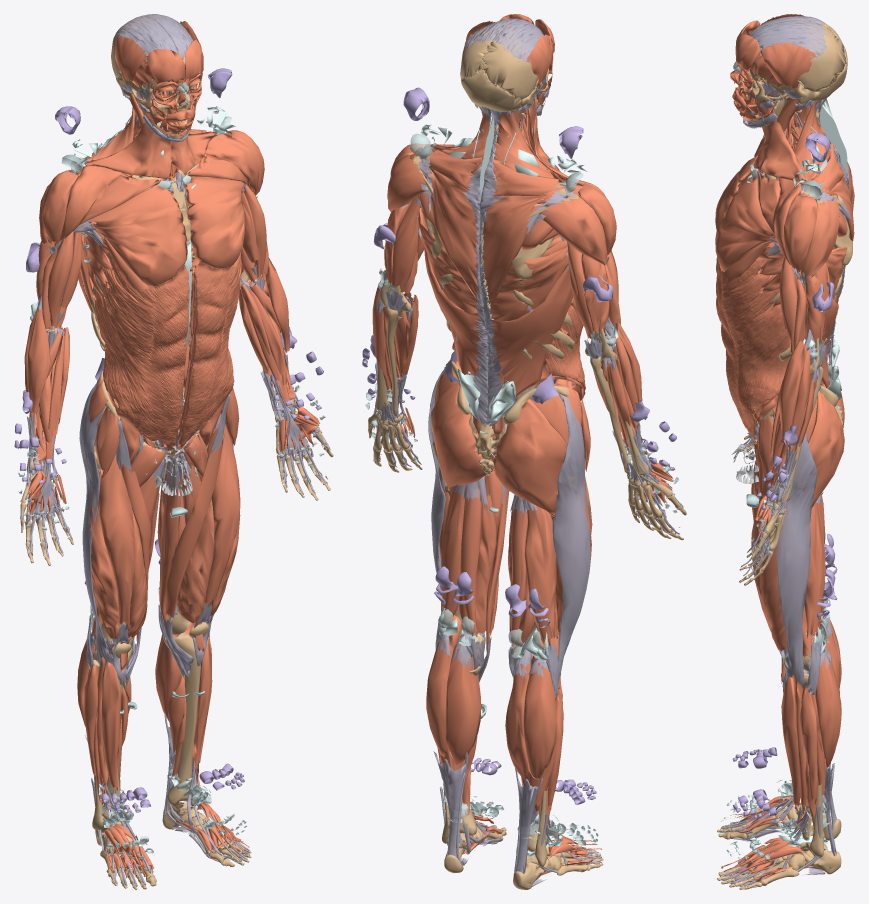
Rendered from myology.glb.
The picture shows the model from 3 angles, left to right: view 1: azimuth 30°, elevation 25°; view 2: azimuth 150°, elevation 25°; view 3: azimuth 270°, elevation 25°; orthographic projection.
Visible parts, largest first — view 1: Object_100, Object_240, Object_29, Object_24, Object_9, Object_70, Object_7; view 2: Object_100, Object_240, Object_29, Object_24, Object_70, Object_9; view 3: Object_100, Object_240, Object_29, Object_24, Object_70, Object_9, Object_7.
Part boxes in pixels (box(x1,y1,x2,y2)): Object_100: box(24, 21, 327, 877); Object_240: box(21, 14, 330, 887); Object_29: box(20, 15, 333, 889); Object_24: box(14, 68, 323, 813); Object_9: box(18, 82, 325, 859); Object_70: box(31, 106, 318, 853); Object_7: box(142, 406, 201, 496); Object_100: box(372, 14, 679, 875); Object_240: box(373, 18, 683, 886); Object_29: box(368, 26, 686, 889); Object_24: box(362, 87, 676, 804); Object_70: box(374, 112, 669, 857); Object_9: box(365, 129, 679, 847); Object_100: box(715, 14, 854, 880); Object_240: box(719, 16, 851, 888); Object_29: box(717, 18, 852, 889); Object_24: box(732, 95, 837, 818); Object_70: box(730, 99, 847, 846); Object_9: box(726, 61, 841, 862); Object_7: box(731, 444, 758, 483).
Size of the model in its own units: 21924 by 55724 by 8405.
